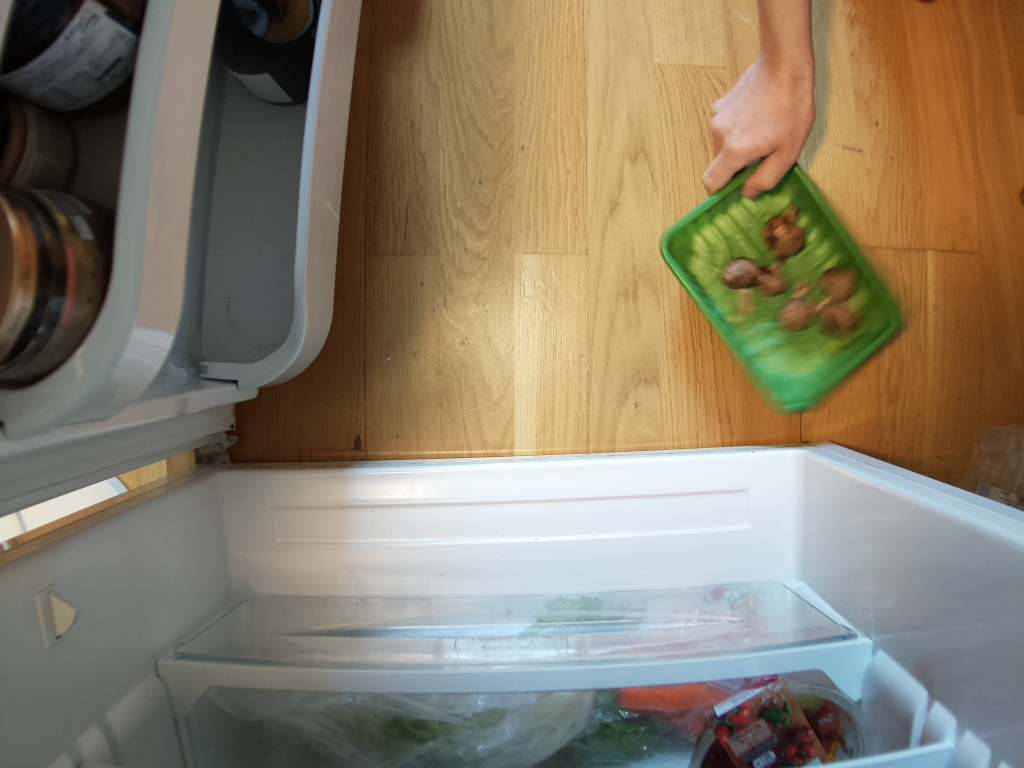mushrooms-bad: (664, 146, 904, 409)
